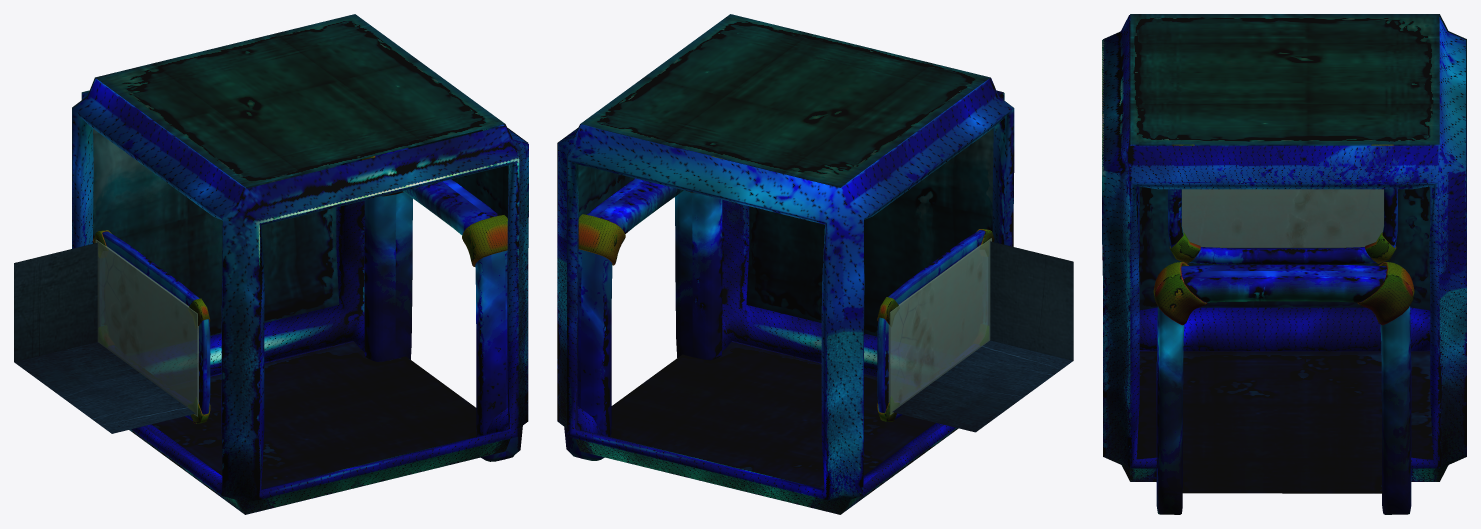
Rendered from elevator.glb.
3 views of the same model, side by side, from view 1: azimuth 30°, elevation 25°; view 2: azimuth 150°, elevation 25°; view 3: azimuth 270°, elevation 25° (orthographic). The views are drawn at different scales.
Parts seen in each view (by area): view 1: Cube.007, Cube.001, Cube.003, Cube.002, Cube.004, Cube.006, Cube.008, Cube.005; view 2: Cube.007, Cube.001, Cube.003, Cube.002, Cube.004, Cube.006, Cube.005, Cube.008; view 3: Cube.007, Cube.001, Cube.003, Cube.004, Cube.006, Cube.008, Cube.005.
Boxes of the visible parts, box(x1,y1,x2,y2) form: Cube.007: box(72, 78, 528, 514); Cube.001: box(72, 78, 528, 489); Cube.003: box(95, 14, 504, 187); Cube.002: box(14, 242, 195, 433); Cube.004: box(364, 148, 522, 461); Cube.006: box(95, 239, 198, 416); Cube.008: box(93, 156, 507, 423); Cube.005: box(102, 231, 210, 420); Cube.007: box(557, 78, 1014, 514); Cube.001: box(557, 77, 1013, 489); Cube.003: box(580, 14, 990, 187); Cube.002: box(892, 241, 1073, 432); Cube.004: box(564, 148, 722, 460); Cube.006: box(888, 238, 991, 414); Cube.005: box(877, 230, 985, 419); Cube.008: box(578, 156, 994, 421); Cube.007: box(1102, 15, 1466, 481); Cube.001: box(1103, 14, 1466, 493); Cube.003: box(1130, 14, 1439, 144); Cube.004: box(1156, 264, 1411, 514); Cube.006: box(1182, 189, 1383, 247); Cube.008: box(1153, 144, 1414, 325); Cube.005: box(1168, 144, 1397, 264).
Size of the model in its own units: 5.82 by 4.75 by 4.38.
Materials: 6 (6 with a texture image).
